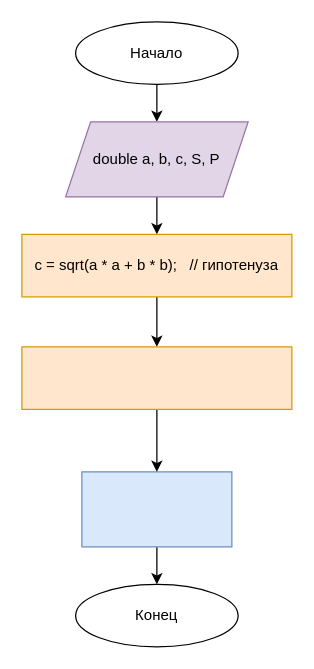
Some shapes in this 314 by 669 pixel diagram are drawn without their labels. The shapes that lost their labels are listed below. From the top down, each one's centre as x and y in pixels, then its label:
point (156, 377): S = 0.5 * a * b; // площадь P = a + b + c; // периметр
point (156, 509): S, P
